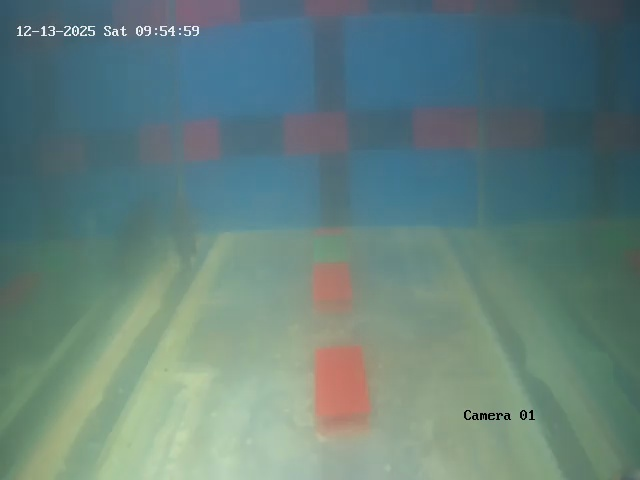fish: (158, 196, 222, 286)
